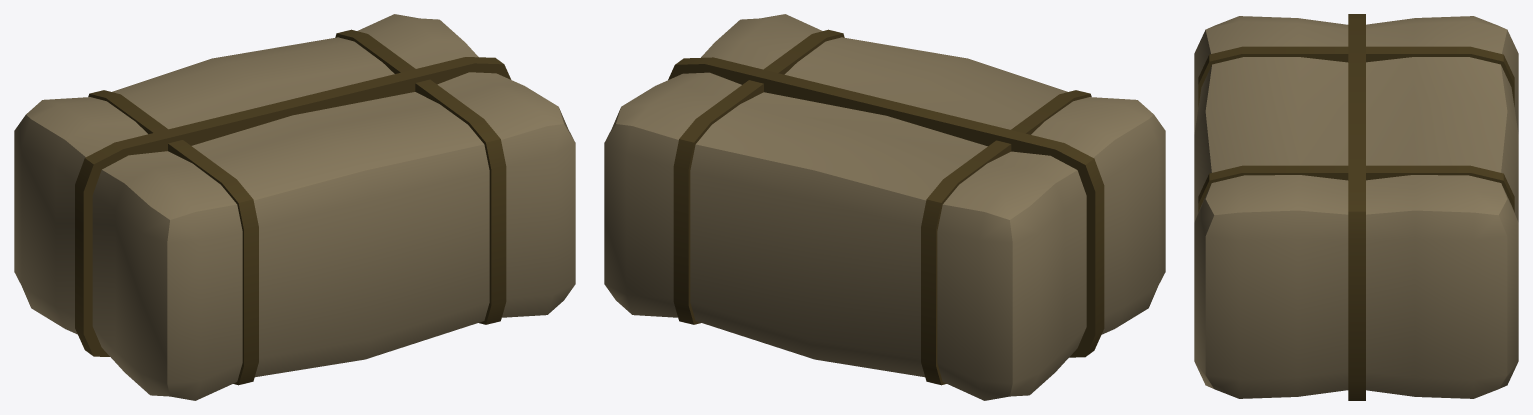
Rendered from Package-2.glb.
3 views of the same model, side by side, from view 1: azimuth 30°, elevation 25°; view 2: azimuth 150°, elevation 25°; view 3: azimuth 270°, elevation 25° (orthographic).
Parts seen in each view (by area): view 1: Package-2; view 2: Package-2; view 3: Package-2.
Part boxes in pixels (<box>): Package-2: <box>14,14,575,400</box>; Package-2: <box>604,14,1165,400</box>; Package-2: <box>1194,14,1518,400</box>.
Size of the model in its own units: 0.2789 by 0.1291 by 0.1845.
